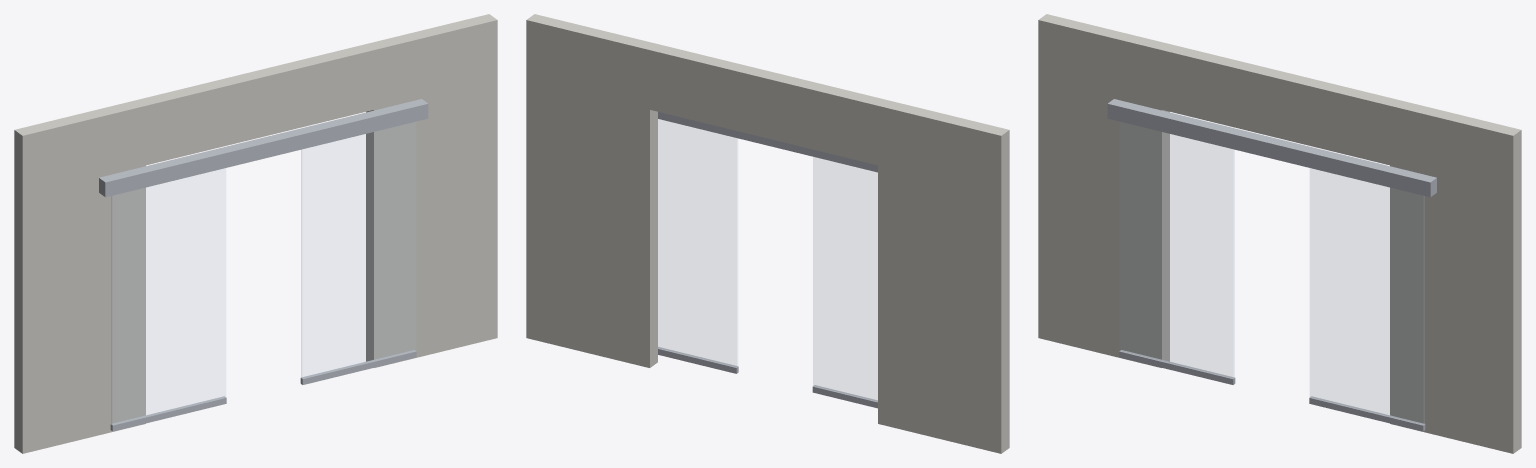
The model's file is str-010.glb.
3 views of the same model, side by side, from view 1: azimuth 30°, elevation 25°; view 2: azimuth 150°, elevation 25°; view 3: azimuth 330°, elevation 25° (orthographic).
Parts seen in each view (by area): view 1: mall_wall, glass_clear, stainless; view 2: mall_wall, glass_clear, stainless; view 3: mall_wall, glass_clear, stainless.
Part boxes in pixels (x1,y1,x2,y2): mall_wall: [14, 14, 497, 453]; glass_clear: [111, 122, 415, 429]; stainless: [99, 99, 428, 431]; mall_wall: [526, 14, 1009, 453]; glass_clear: [658, 119, 877, 401]; stainless: [658, 112, 877, 408]; mall_wall: [1038, 14, 1521, 453]; glass_clear: [1120, 122, 1424, 424]; stainless: [1107, 99, 1436, 431].
Size of the model in its own units: 5 by 3.2 by 0.275.
